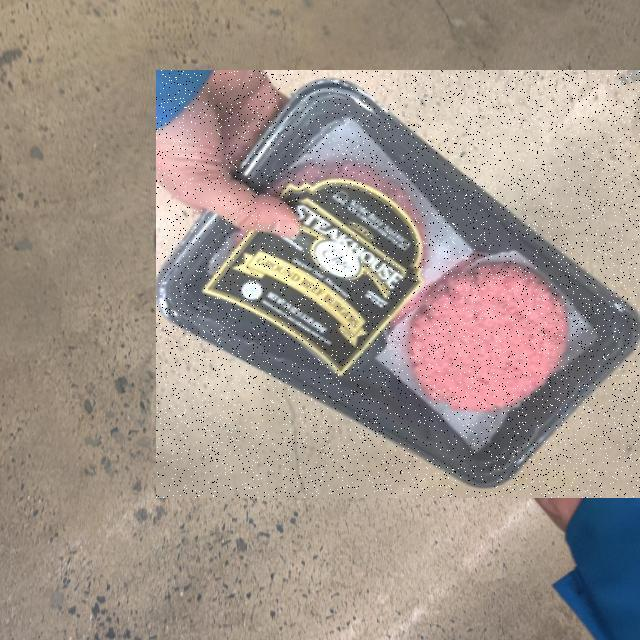Meat: (156, 70, 640, 498)
